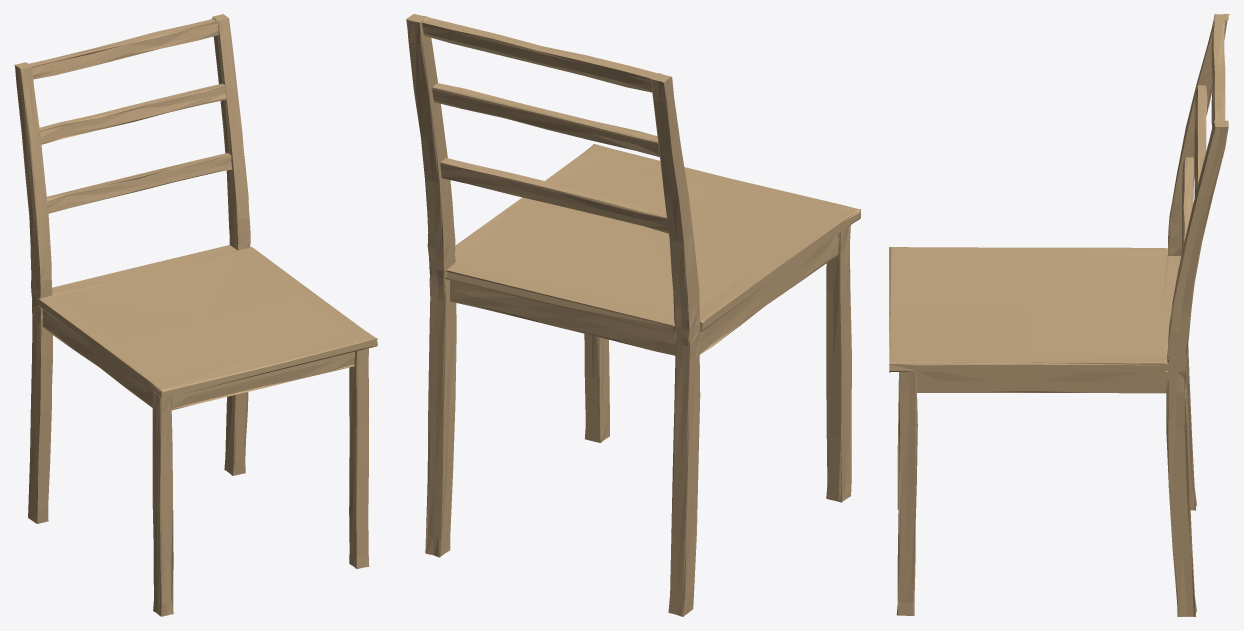
File: gen-dining-chair-1.glb
3 renders of one model, left to right at view 1: azimuth 30°, elevation 25°; view 2: azimuth 150°, elevation 25°; view 3: azimuth 270°, elevation 25°, orthographic. The views are drawn at different scales.
Visible parts, largest first — view 1: gen-dining-chair-1_part1; view 2: gen-dining-chair-1_part1; view 3: gen-dining-chair-1_part1.
Boxes of the visible parts, x1,y1,x2,y2 form: gen-dining-chair-1_part1: [14, 14, 377, 616]; gen-dining-chair-1_part1: [406, 14, 860, 616]; gen-dining-chair-1_part1: [889, 14, 1229, 616].
Bounding box in the file's own units: 462 × 900 × 566.
